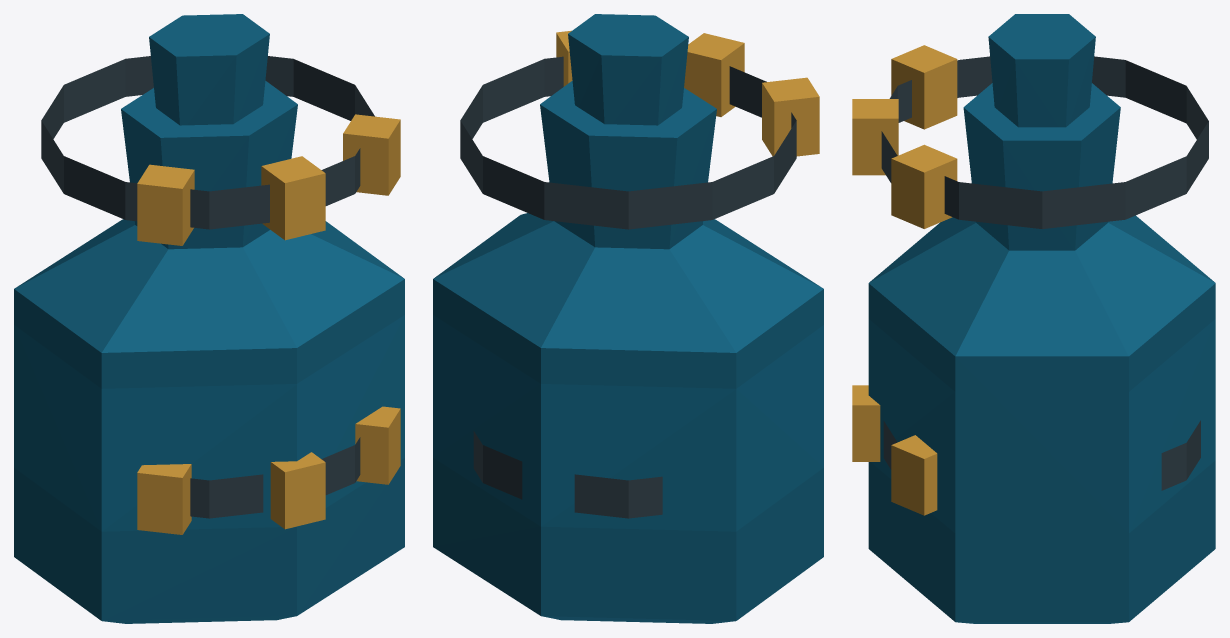
The model's file is jug-sky.glb.
3 views of the same model, side by side, from view 1: azimuth 30°, elevation 25°; view 2: azimuth 150°, elevation 25°; view 3: azimuth 270°, elevation 25° (orthographic).
Parts seen in each view (by area): view 1: jug-sky; view 2: jug-sky; view 3: jug-sky.
Part boxes in pixels (x1,y1,x2,y2): jug-sky: (14, 14, 404, 623); jug-sky: (433, 14, 823, 623); jug-sky: (852, 14, 1215, 623).
Size of the model in its own units: 0.35 by 0.59 by 0.3665.
